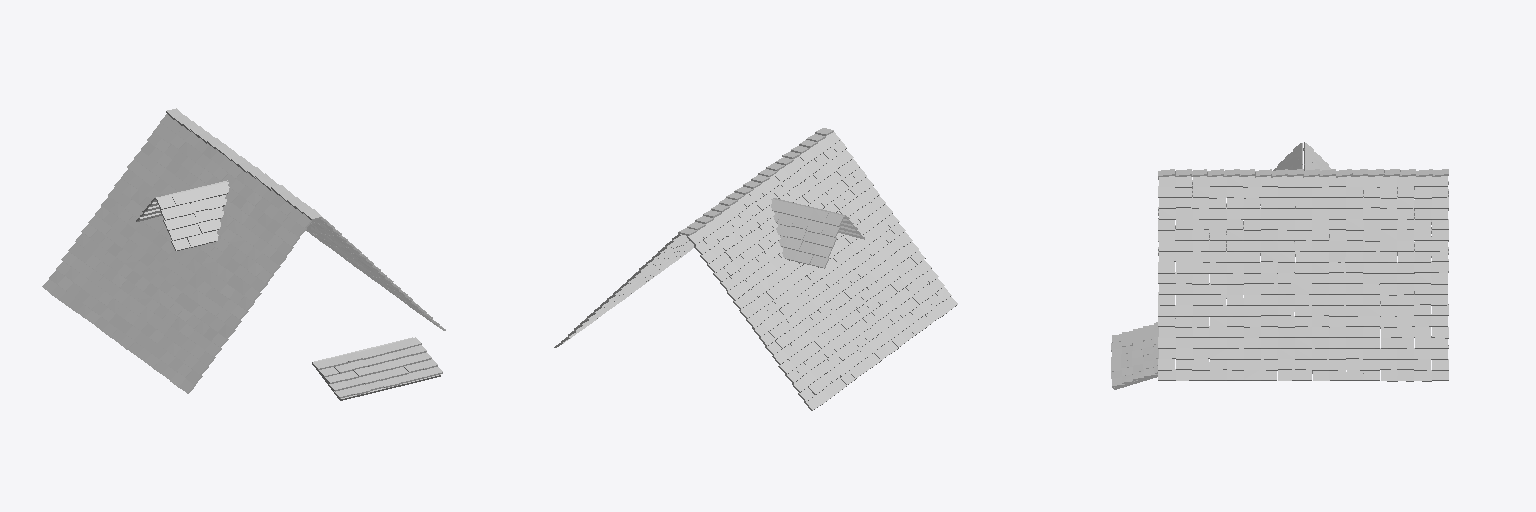
Rendered from Overroof.obj.
3 views of the same model, side by side, from view 1: azimuth 30°, elevation 25°; view 2: azimuth 150°, elevation 25°; view 3: azimuth 270°, elevation 25° (orthographic).
Visible parts, largest first — view 1: House.010; view 2: House.010; view 3: House.010.
Part boxes in pixels (x1,y1,x2,y2): House.010: (42, 108, 445, 400); House.010: (554, 128, 957, 410); House.010: (1111, 142, 1448, 389).
Size of the model in its own units: 2.41 by 1.5 by 2.71.